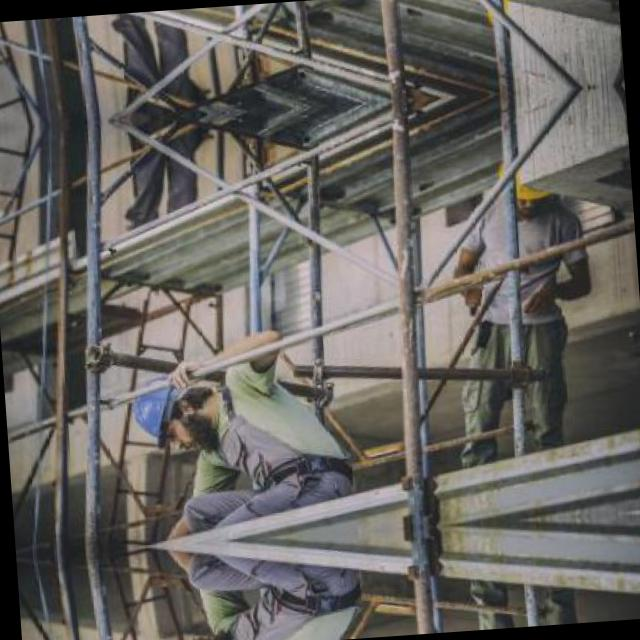helmet: (128, 373, 224, 461), (494, 149, 560, 218), (482, 0, 548, 35), (144, 625, 238, 640)
